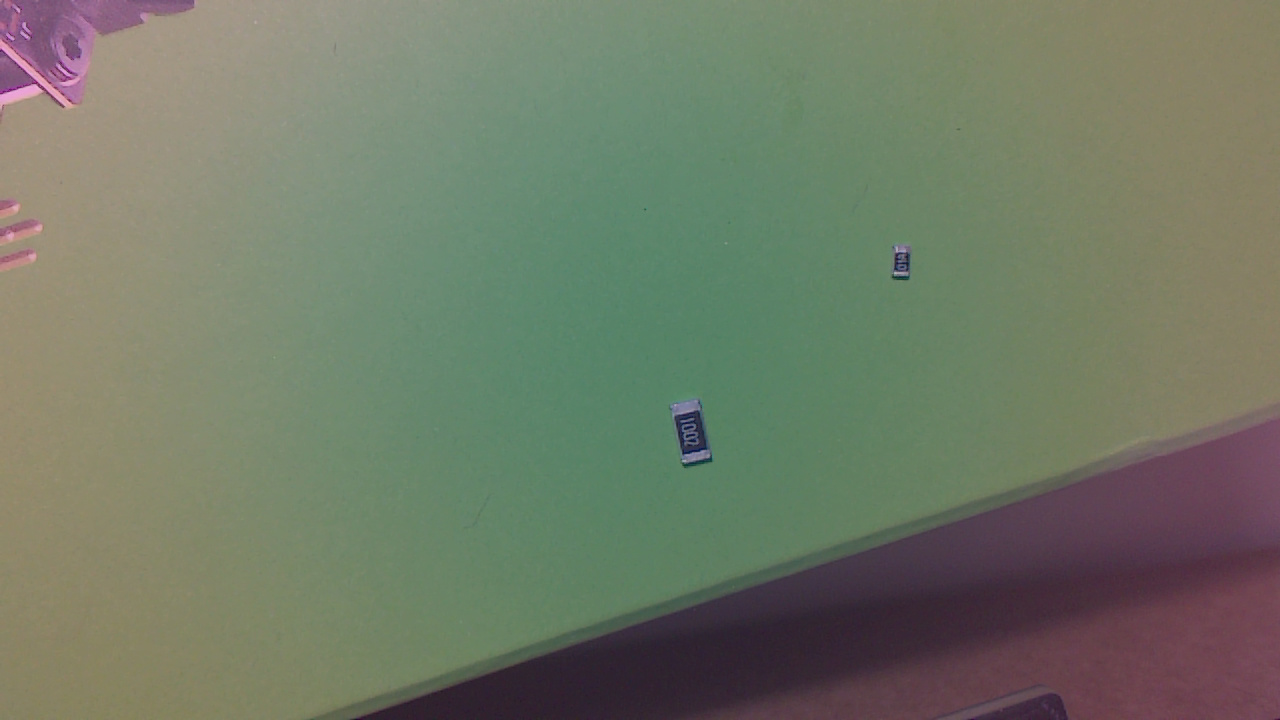Resistor: (672, 404, 720, 470), (897, 248, 916, 286)
